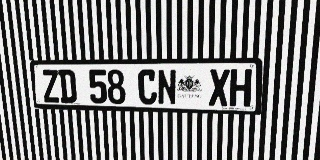5: (88, 69, 108, 104)
8: (106, 69, 126, 104)
C: (138, 69, 157, 105)
D: (58, 70, 77, 103)
H: (229, 69, 252, 107)
N: (157, 69, 176, 105)
X: (209, 69, 230, 106)
Z: (41, 70, 60, 103)
